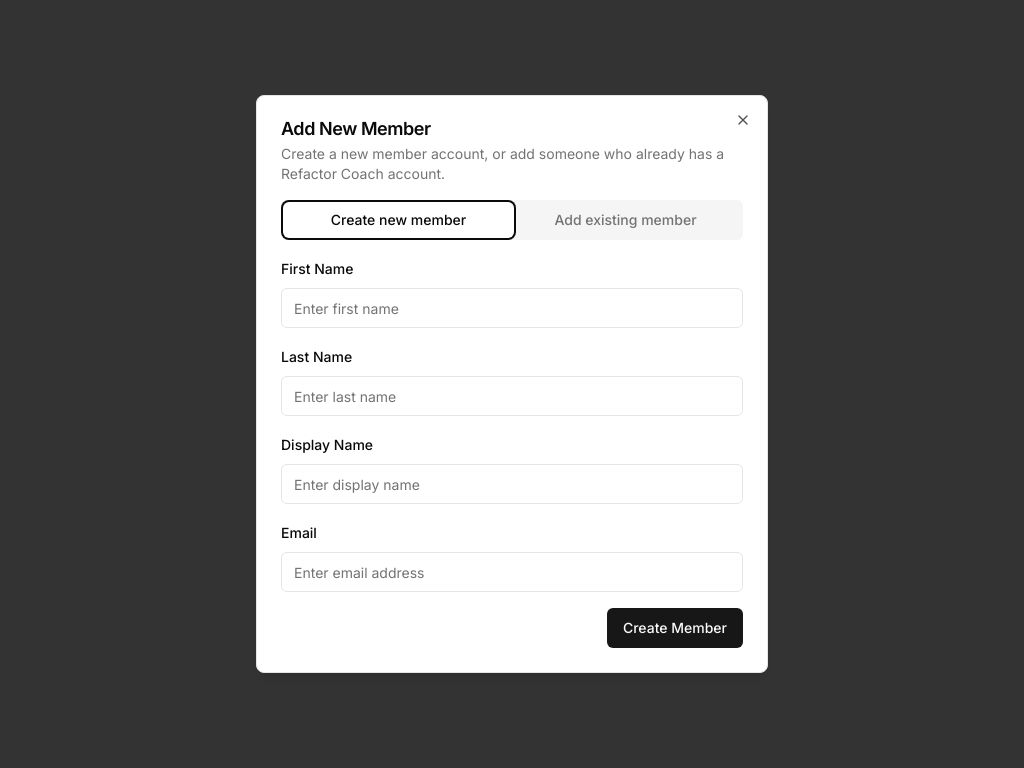
Test: AddMemberDialog – existing member lookup › shows the returned name and email on a match
Click the tab "Add existing member" at (626, 220), box [512,204,739,236]
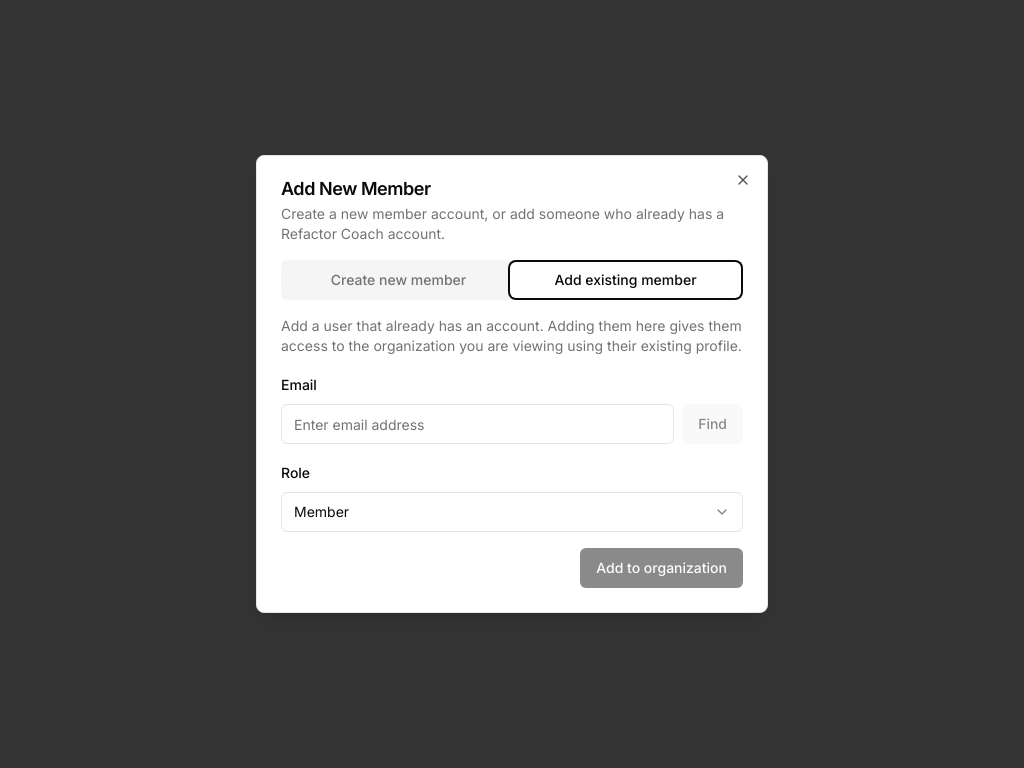
Type "ada@example.com" into the field labelled "Email" at (478, 424), box [281,404,674,444]
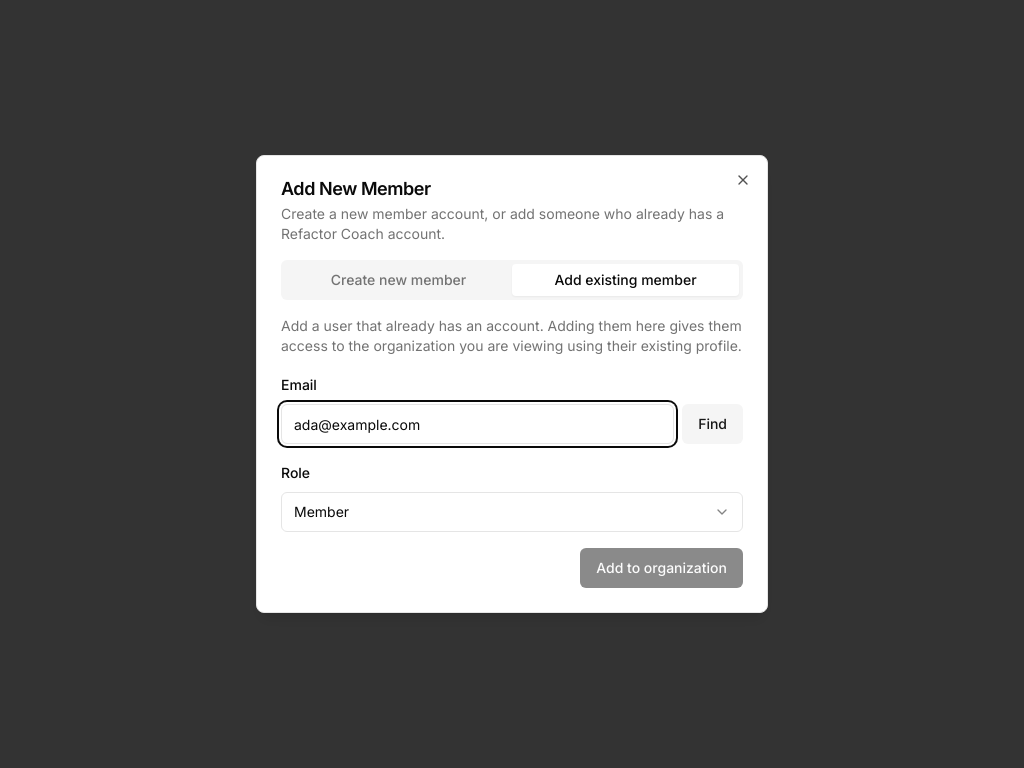
Click the button "Find" at (713, 424), box [682,404,743,444]
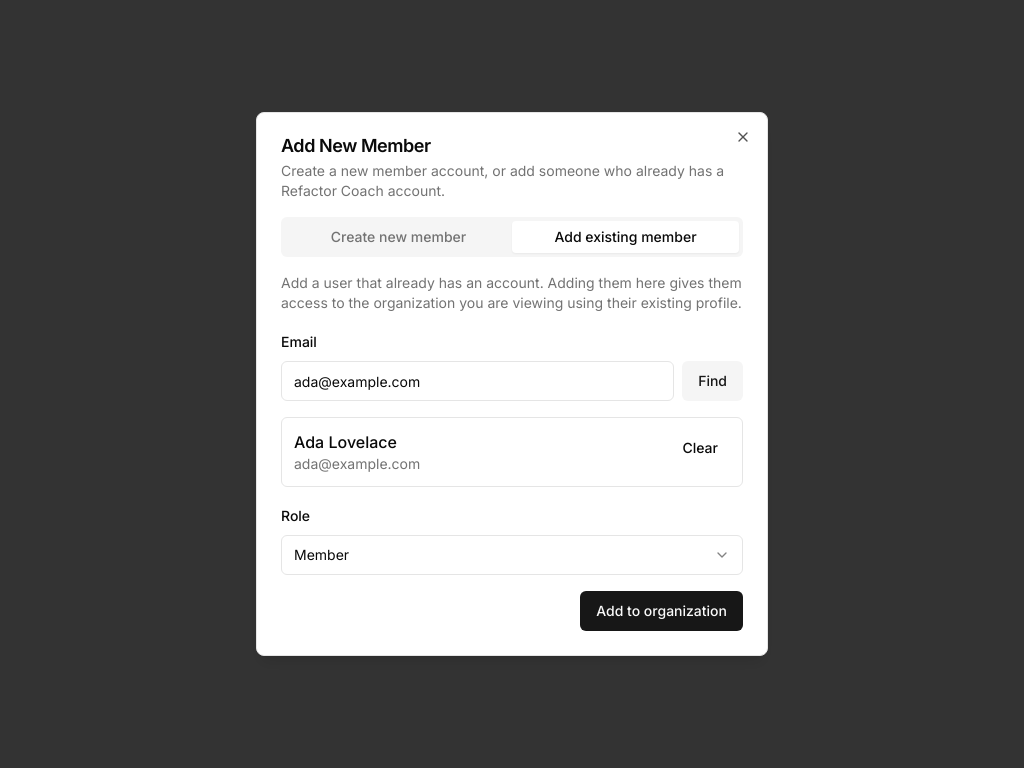
Expected: the text "Ada Lovelace" is shown, [294,432,397,452]
Expected: the text "ada@example.com" is shown, [294,454,420,474]
Expected: the button "Add to organization" is enabled, [580,591,743,631]
